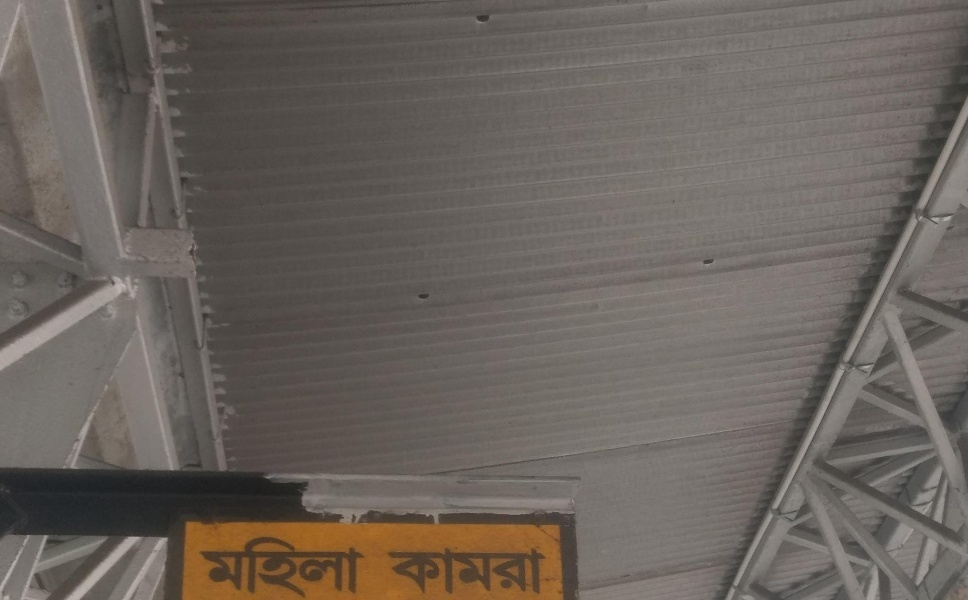text: (209, 535, 224, 600), (225, 535, 240, 600), (241, 535, 256, 600), (257, 535, 272, 600), (273, 535, 288, 600), (289, 535, 304, 600), (305, 535, 320, 600), (321, 535, 336, 600), (337, 535, 352, 600), (353, 535, 368, 600), (196, 535, 208, 600), (385, 546, 400, 597), (401, 546, 416, 597), (417, 546, 432, 597), (433, 546, 448, 597), (449, 546, 464, 597), (465, 546, 480, 597), (481, 546, 496, 597), (497, 546, 512, 597), (513, 546, 528, 597), (529, 546, 544, 597), (545, 546, 554, 597), (383, 546, 384, 597)
